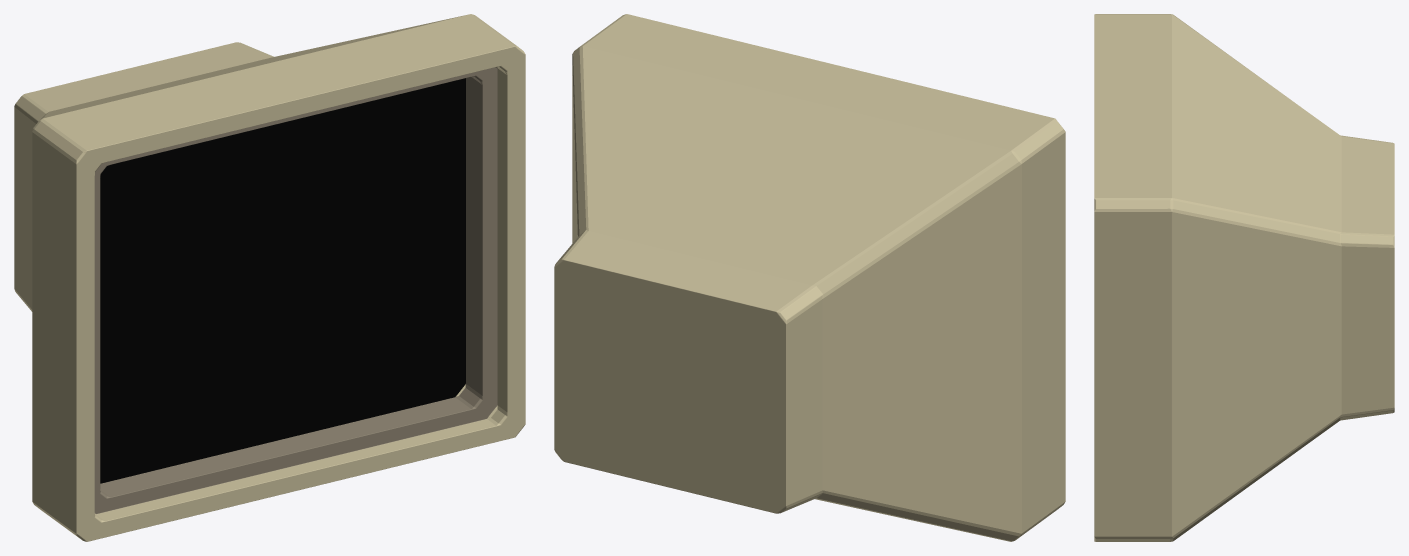
File: monitor.fbx
3 renders of one model, left to right at view 1: azimuth 30°, elevation 25°; view 2: azimuth 150°, elevation 25°; view 3: azimuth 270°, elevation 25°, orthographic. The views are drawn at different scales.
Parts seen in each view (by area): view 1: Cube; view 2: Cube; view 3: Cube.
Part boxes in pixels (bbox=[...]): Cube: bbox=[14, 14, 525, 541]; Cube: bbox=[554, 14, 1065, 541]; Cube: bbox=[1094, 14, 1394, 541].
Bounding box in the file's own units: 200 × 166 × 132.
